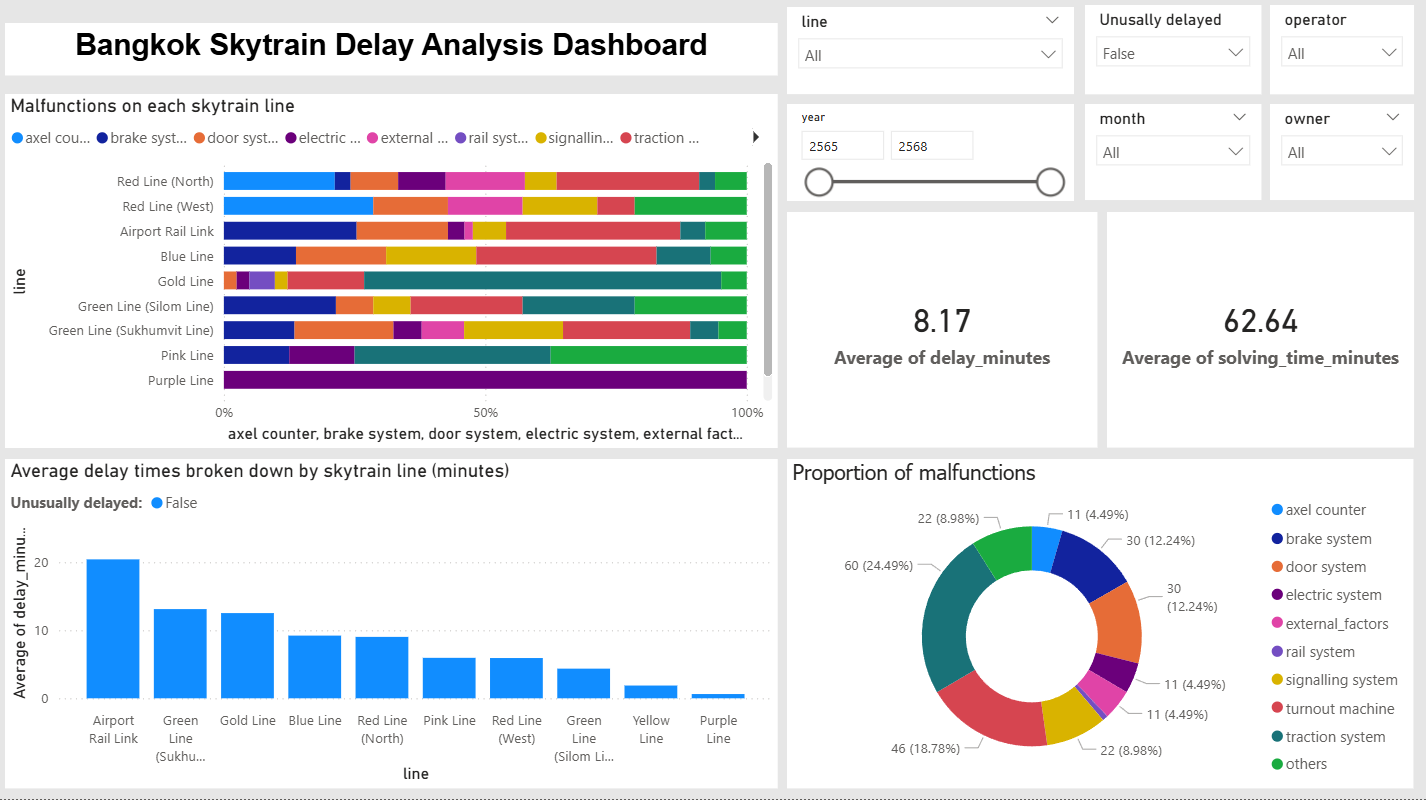

This screenshot's page, from the dashboard's own definition file:
{"tool":"powerbi","page":{"name":"Page 1","canvas":[1280,720],"ordinal":0},"visuals":[{"type":"clusteredColumnChart","title":"Average delay times broken down by skytrain line (minutes)","fields":{"Category":["bkk_railway_processed.line"],"Y":["Avg(bkk_railway_processed.delay_minutes)"],"Series":["bkk_railway_processed.is_outlier"]},"box":[6.3,415.5,692.2,294.6],"z":0},{"type":"donutChart","title":"Proportion of malfunctions","fields":{"Y":["Sum(bkk_railway_processed.axel_counter)","Sum(bkk_railway_processed.brake_sys)","Sum(bkk_railway_processed.door_sys)","Sum(bkk_railway_processed.electric_sys)","Sum(bkk_railway_processed.external_factors)","Sum(bkk_railway_processed.rail_sys)","Sum(bkk_railway_processed.signalling_sys)","Sum(bkk_railway_processed.turnout_machine)","Sum(bkk_railway_processed.traction_sys)","Sum(bkk_railway_processed.others)"]},"box":[706.6,415.5,561.5,294.6],"z":1000},{"type":"hundredPercentStackedBarChart","title":"Malfunctions on each skytrain line","fields":{"Category":["bkk_railway_processed.line"],"Y":["Sum(bkk_railway_processed.axel_counter)","Sum(bkk_railway_processed.brake_sys)","Sum(bkk_railway_processed.door_sys)","Sum(bkk_railway_processed.electric_sys)","Sum(bkk_railway_processed.external_factors)","Sum(bkk_railway_processed.rail_sys)","Sum(bkk_railway_processed.signalling_sys)","Sum(bkk_railway_processed.traction_sys)","Sum(bkk_railway_processed.turnout_machine)","Sum(bkk_railway_processed.others)"]},"box":[6.3,88.7,692.2,317],"z":2000},{"type":"textbox","box":[6.3,25.1,692.2,46.6],"z":3000},{"type":"slicer","fields":{"Values":["bkk_railway_processed.line"]},"box":[706.1,10.7,256.8,77.8],"z":4000},{"type":"slicer","fields":{"Values":["bkk_railway_processed.is_outlier"]},"box":[973.6,8.8,157.6,79.8],"z":5000},{"type":"slicer","fields":{"Values":["bkk_railway_processed.operator"]},"box":[1139,8.8,129.4,79.8],"z":6000},{"type":"slicer","fields":{"Values":["bkk_railway_processed.owner"]},"box":[1139,97.3,129.4,85.6],"z":7000},{"type":"slicer","fields":{"Values":["bkk_railway_processed.month"]},"box":[973.6,97.3,157.6,85.6],"z":8000},{"type":"slicer","fields":{"Values":["bkk_railway_processed.year"]},"box":[706.1,97.3,256.8,85.6],"z":9000},{"type":"card","fields":{"Values":["Avg(bkk_railway_processed.delay_minutes)"]},"box":[706.6,194.3,277.6,211.3],"z":10000},{"type":"card","fields":{"Values":["Avg(bkk_railway_processed.solving_time_minutes)"]},"box":[993.1,194.3,274.9,211.3],"z":11000}]}

Visuals, with their boxes in screenshot pixels (x1, y1, x2, y2), scaled from the page's 1280x720 canvas onto the 1426x800 screenshot:
"Average delay times broken down by skytrain line (minutes)" clusteredColumnChart: (7,462,778,789)
"Proportion of malfunctions" donutChart: (787,462,1413,789)
"Malfunctions on each skytrain line" hundredPercentStackedBarChart: (7,99,778,451)
textbox: (7,28,778,80)
slicer - bkk_railway_processed.line: (787,12,1073,98)
slicer - bkk_railway_processed.is_outlier: (1085,10,1260,98)
slicer - bkk_railway_processed.operator: (1269,10,1413,98)
slicer - bkk_railway_processed.owner: (1269,108,1413,203)
slicer - bkk_railway_processed.month: (1085,108,1260,203)
slicer - bkk_railway_processed.year: (787,108,1073,203)
card - Avg(bkk_railway_processed.delay_minutes): (787,216,1096,451)
card - Avg(bkk_railway_processed.solving_time_minutes): (1106,216,1413,451)
